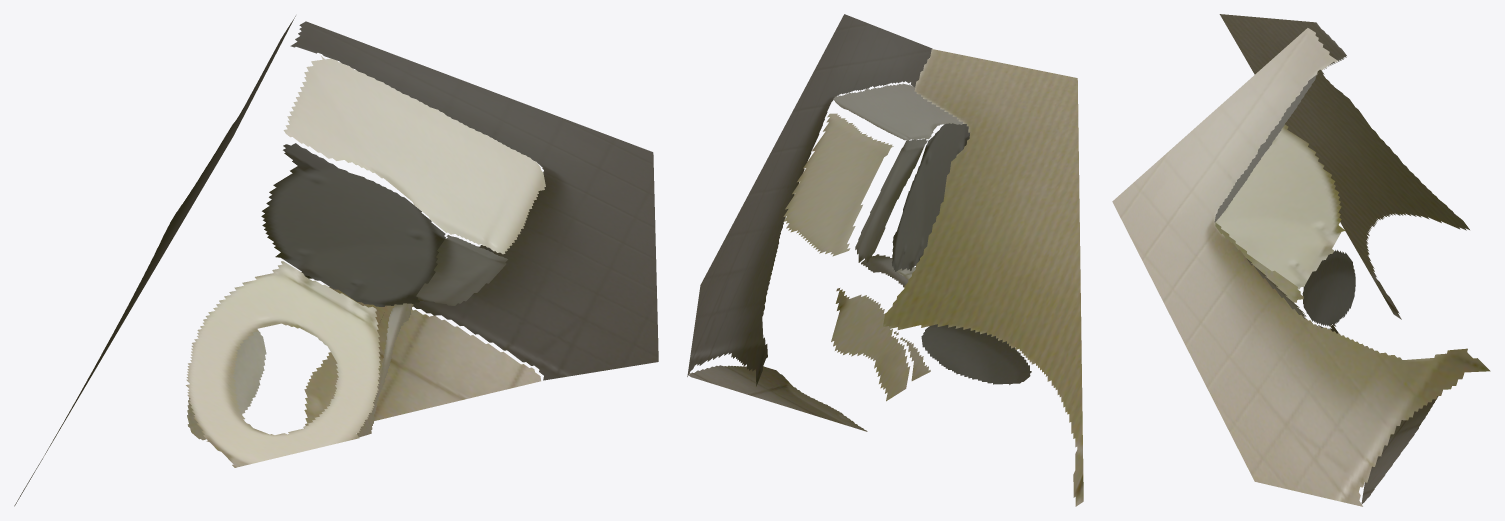
File: 250_d2_depth_predplane_pred_model.glb
3 renders of one model, left to right at view 1: azimuth 30°, elevation 25°; view 2: azimuth 150°, elevation 25°; view 3: azimuth 270°, elevation 25°, orthographic. The views are drawn at different scales.
Bounding box in the file's own units: 1.45 × 1.17 × 1.03.
